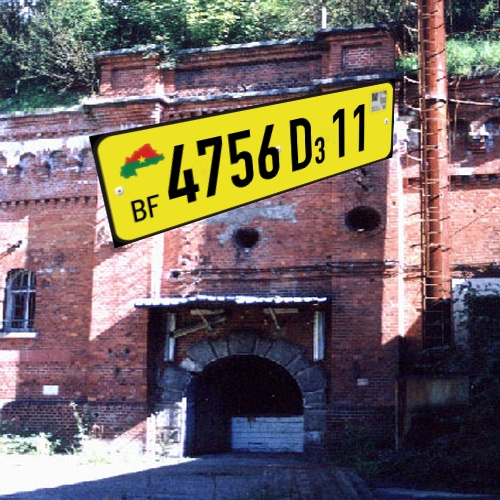plate: (73, 68, 411, 252)
